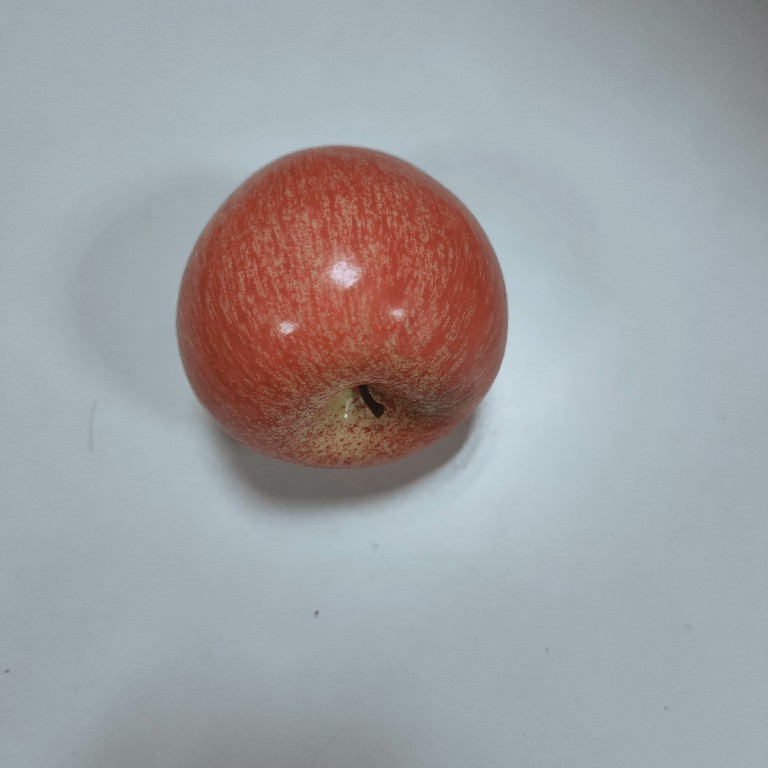fruit_apple: (169, 138, 515, 478)
